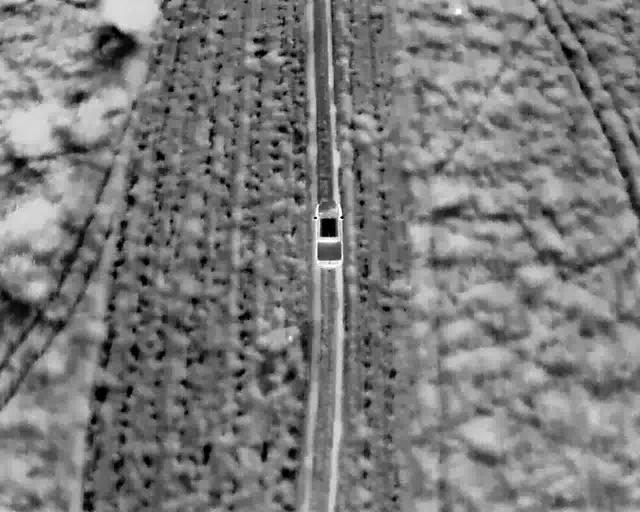car: (313, 200, 343, 267)
